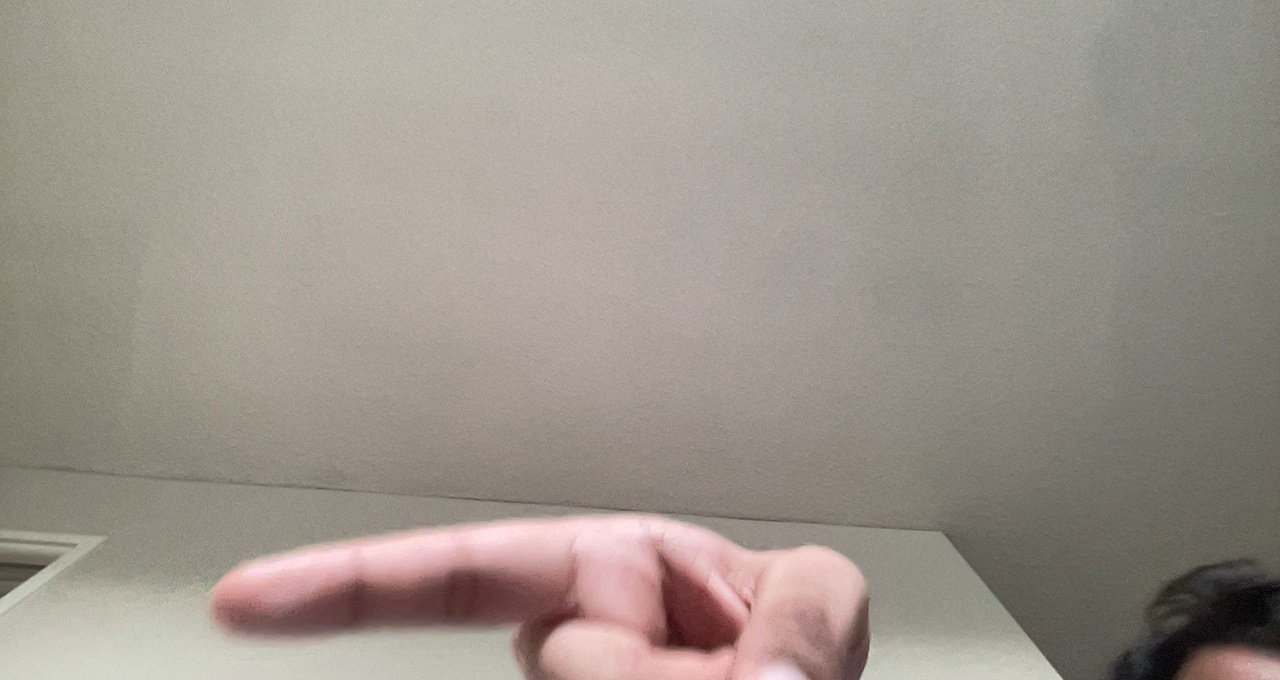fingerright: (193, 469, 887, 673)
